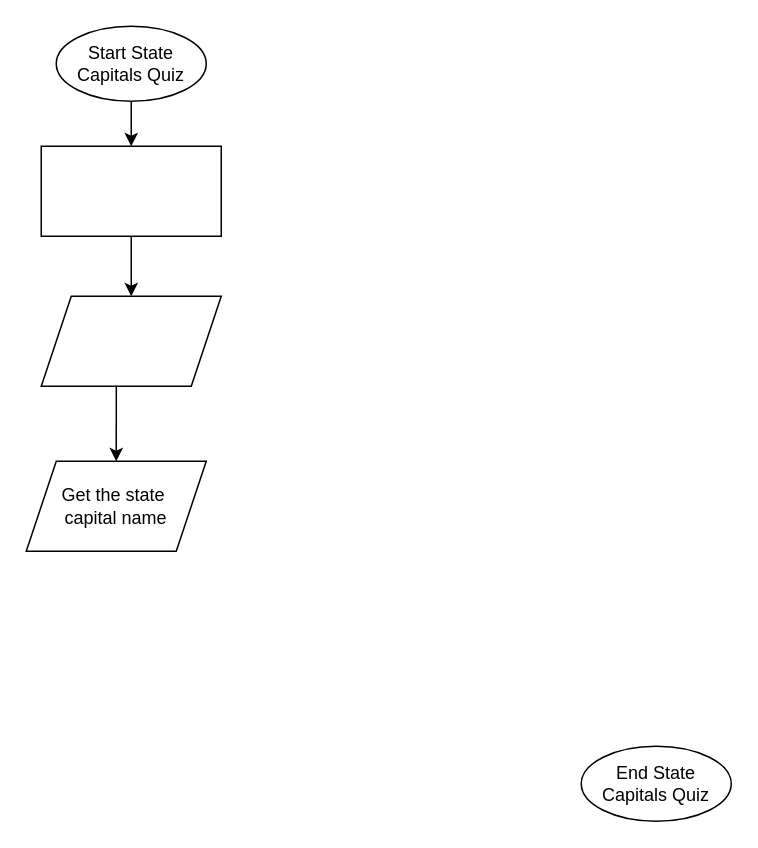
This 758x848 diagram has some shape labels left out. The shapes that lost their labels are listed below. From the top down, each one's centre as x and y in pixels, then its label:
the point at 130,190: Choose a random state name from dict
the point at 130,340: Output the state name
